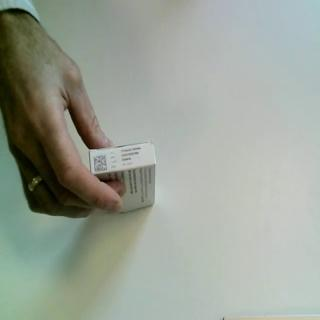oxycontin15mg: (88, 138, 158, 216)
